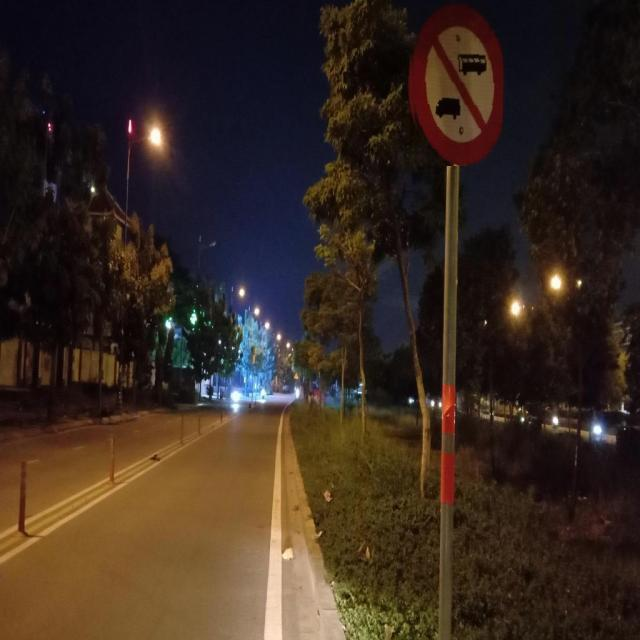107-cam-oto-khach-va-oto-tai: (409, 2, 503, 166)
